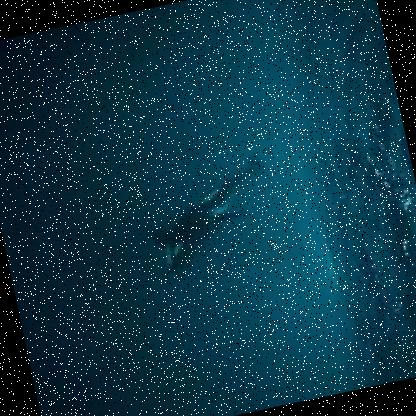killer_whale: (70, 138, 304, 300)
